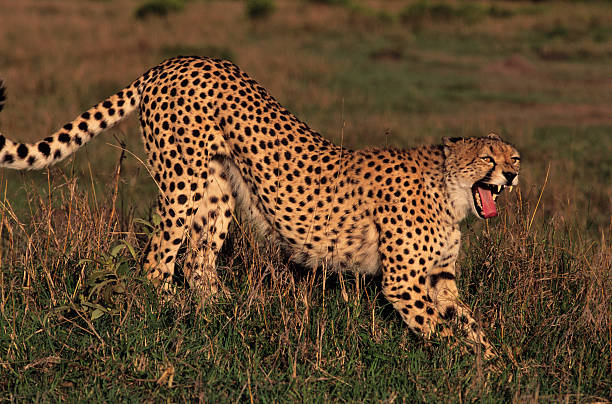cheetah: (436, 121, 537, 224)
